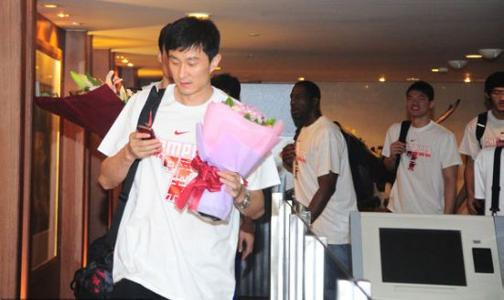person: (97, 16, 278, 300)
